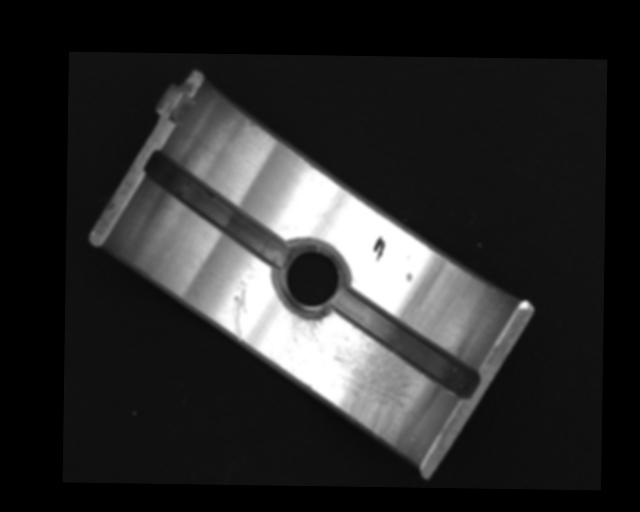blot: (372, 234, 385, 262)
bruise: (404, 271, 414, 284)
gap: (144, 152, 291, 266), (335, 292, 481, 396)
hole: (274, 242, 349, 317)
nick: (230, 280, 249, 342)
scratch: (283, 311, 414, 449)
